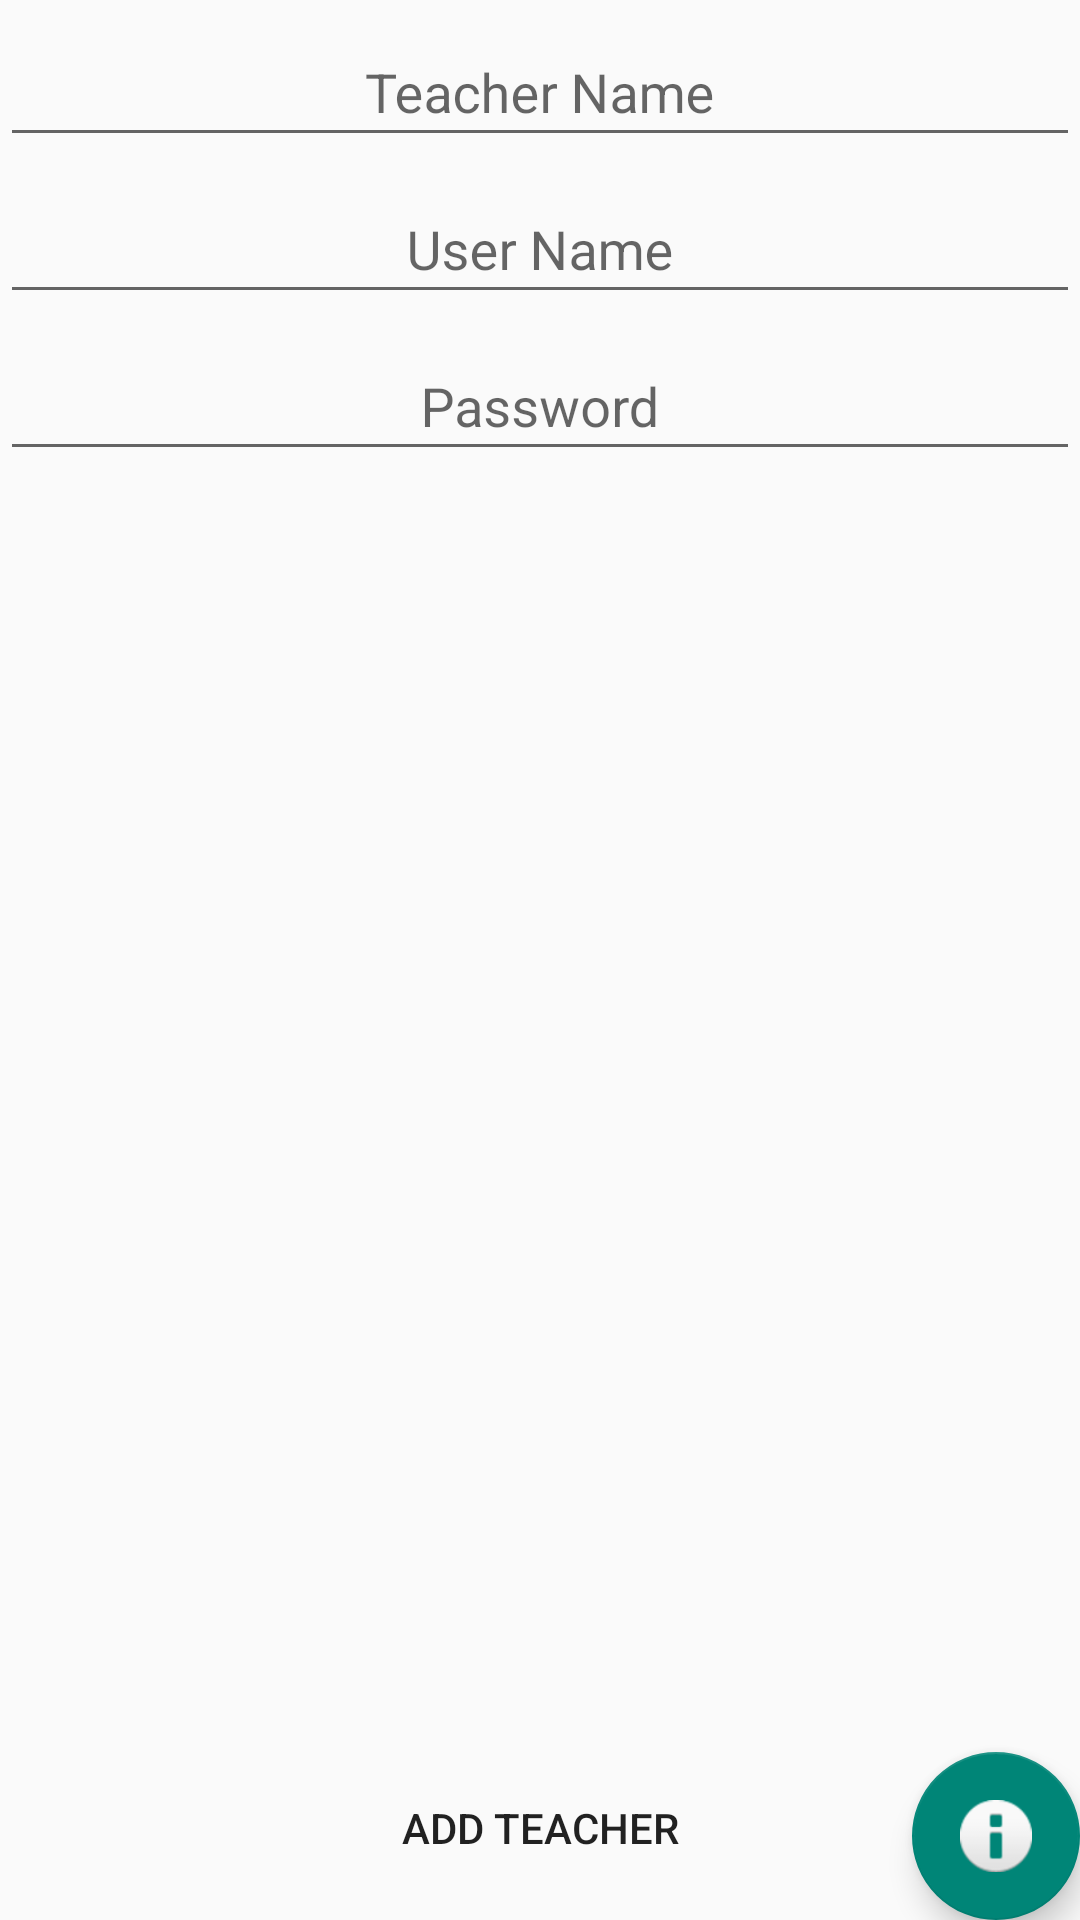

Where icons sit on this 1080px×1920px app screen, as (x1, y1, x2, y2):
info: (912, 1752, 1080, 1920)
